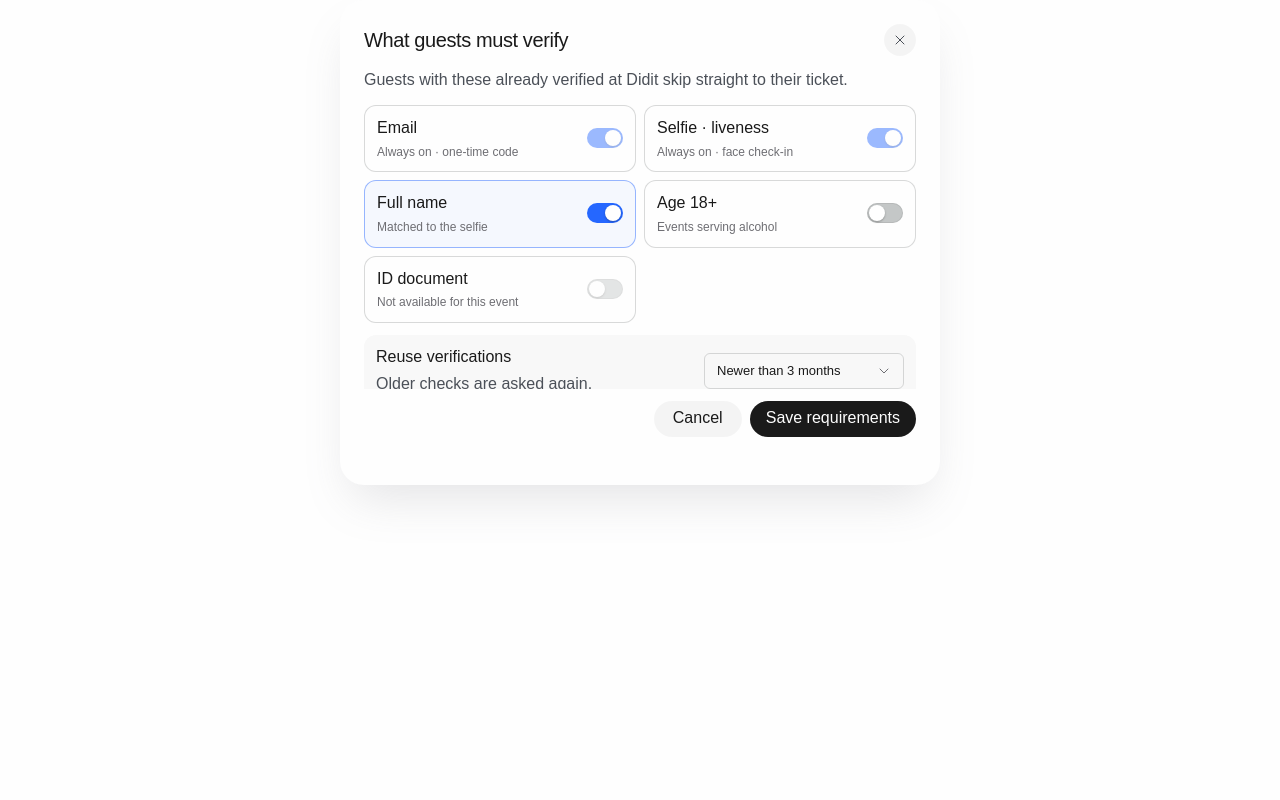
Test: RequirementsModal handles error
Click the button "Save requirements": (833, 419) [750,401,916,437]
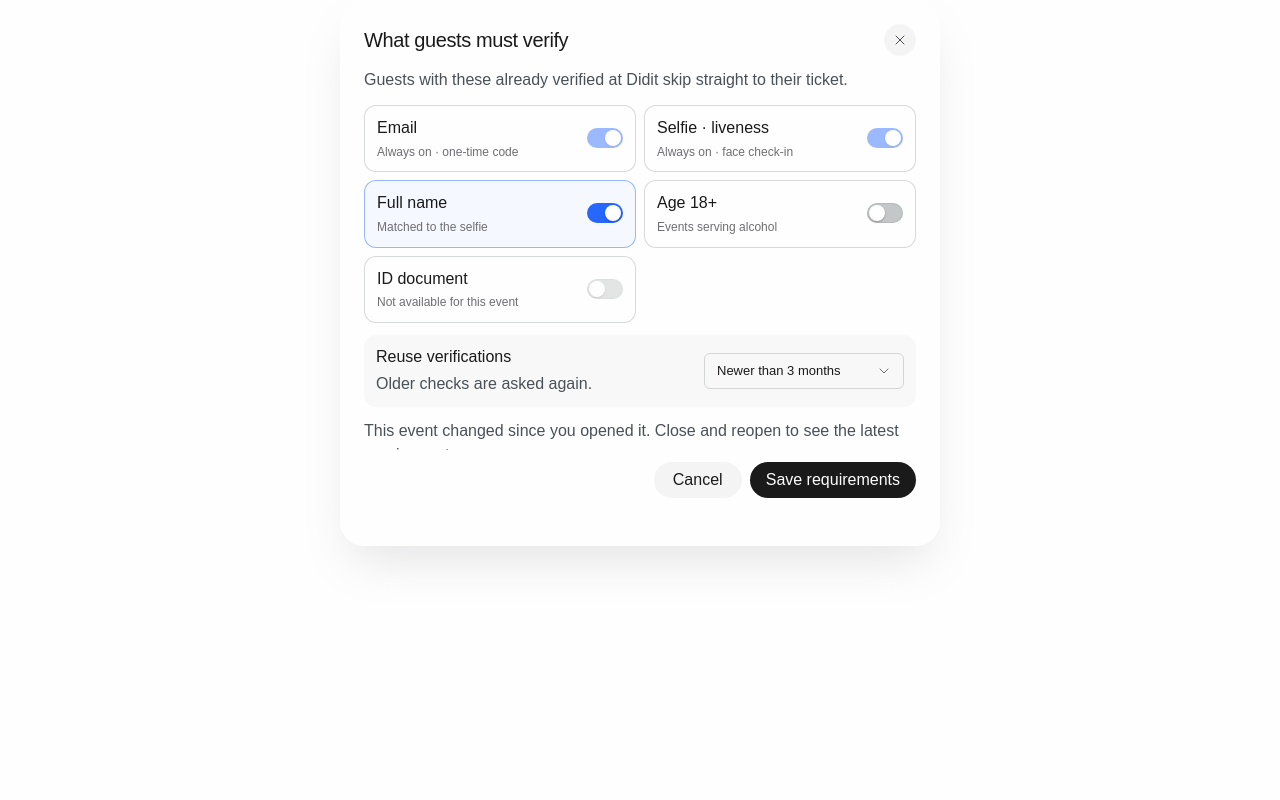
Check: the message is shown, box [364,419,916,468]
